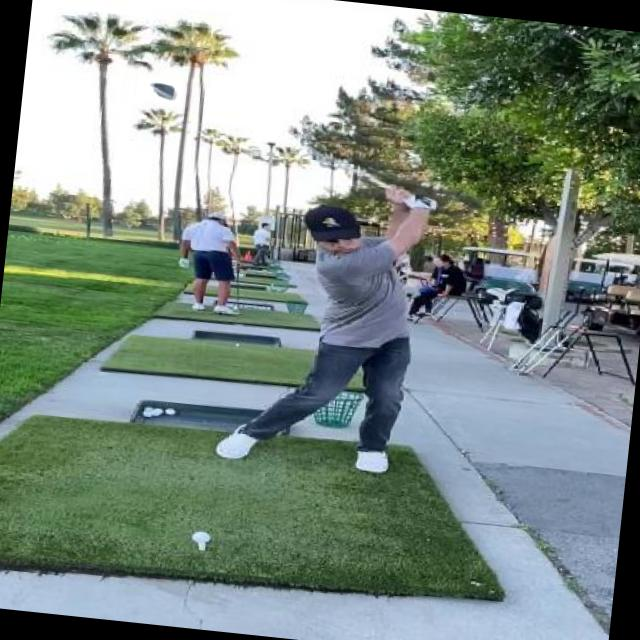club head: (136, 74, 182, 104)
